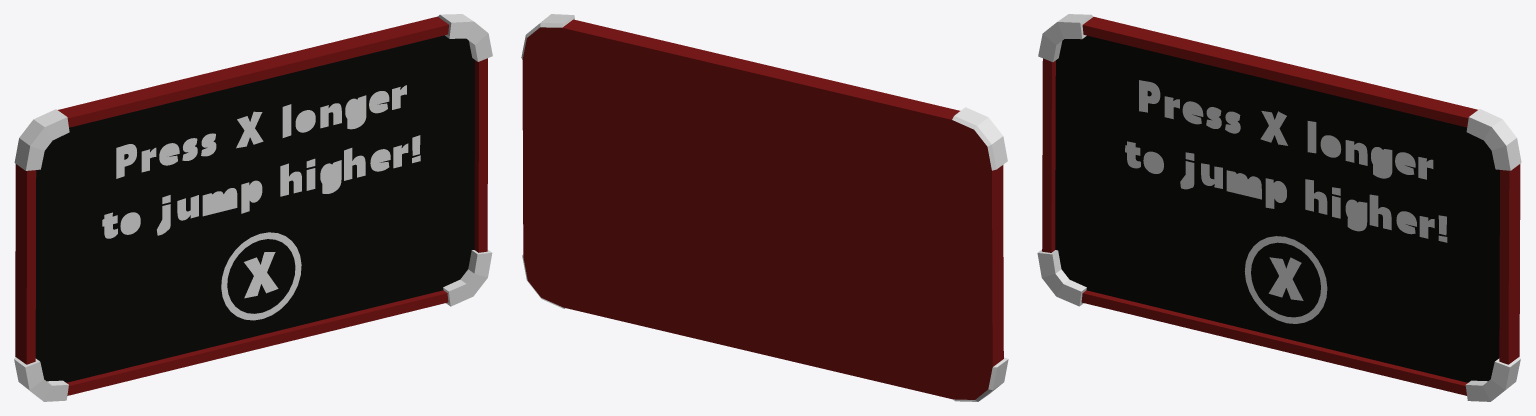
The model's file is Tuto2_PSN.FBX.
3 views of the same model, side by side, from view 1: azimuth 30°, elevation 25°; view 2: azimuth 150°, elevation 25°; view 3: azimuth 330°, elevation 25° (orthographic).
Parts seen in each view (by area): view 1: Pizarra 3, Text015, Shape012, Text016; view 2: Pizarra 3; view 3: Pizarra 3, Text015, Shape012, Text016.
Part boxes in pixels (left/top/right/bottom): Pizarra 3: left=14, top=14, right=492, bottom=401; Text015: left=102, top=85, right=420, bottom=238; Shape012: left=221, top=232, right=301, bottom=320; Text016: left=244, top=252, right=278, bottom=298; Pizarra 3: left=521, top=14, right=1008, bottom=401; Pizarra 3: left=1037, top=14, right=1521, bottom=401; Text015: left=1125, top=80, right=1447, bottom=242; Shape012: left=1244, top=236, right=1327, bottom=323; Text016: left=1268, top=257, right=1303, bottom=300.
Size of the model in its own units: 77.68 by 44.99 by 4.52.
